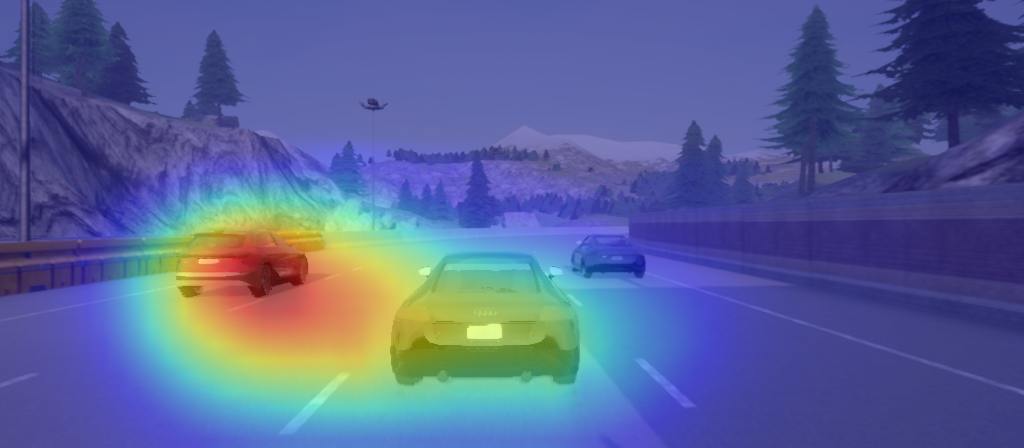Barrier: (680, 195, 1015, 267), (3, 241, 161, 276)
Car: (386, 248, 587, 391), (169, 225, 312, 303), (566, 231, 653, 283)
Lane Marker: (269, 368, 356, 438), (629, 352, 710, 413), (228, 296, 266, 316), (320, 270, 343, 283)
Light Pole: (354, 93, 397, 231), (15, 1, 38, 241)
